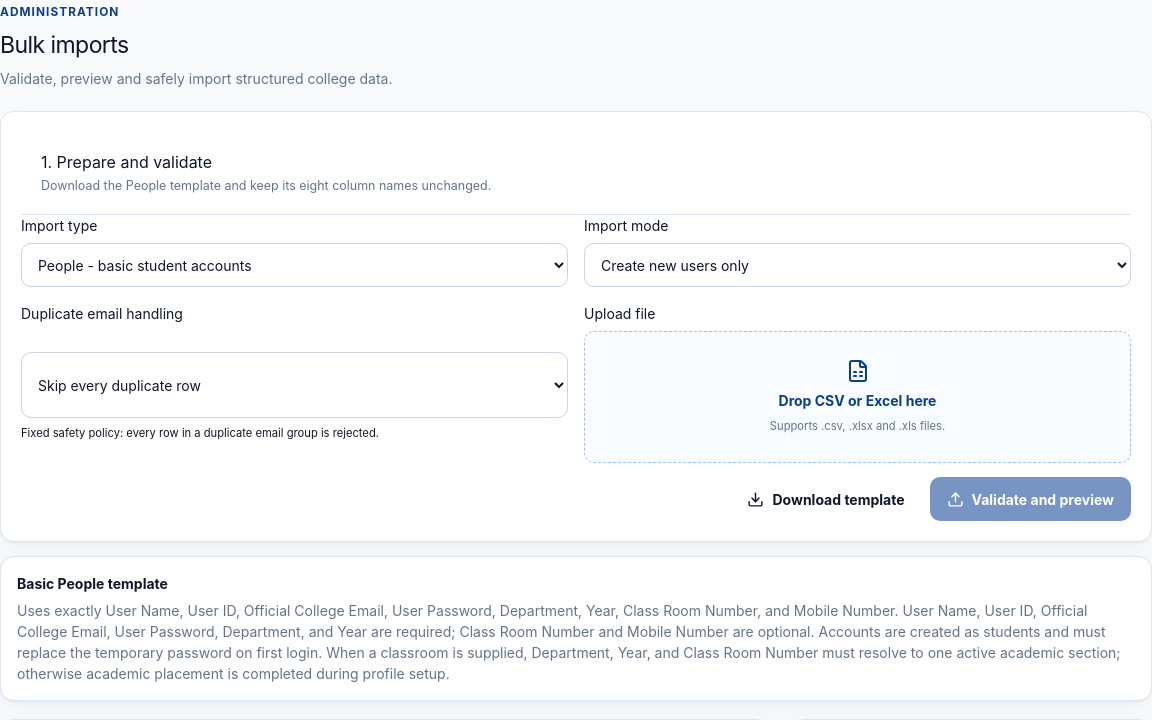
it: People bulk import page › surfaces template download failures
The image size is (1152, 720).
What coordinates should you click on to do the following:
click the button "Download template"
I would click on:
 (826, 499)
Its box is [730,477,922,521].
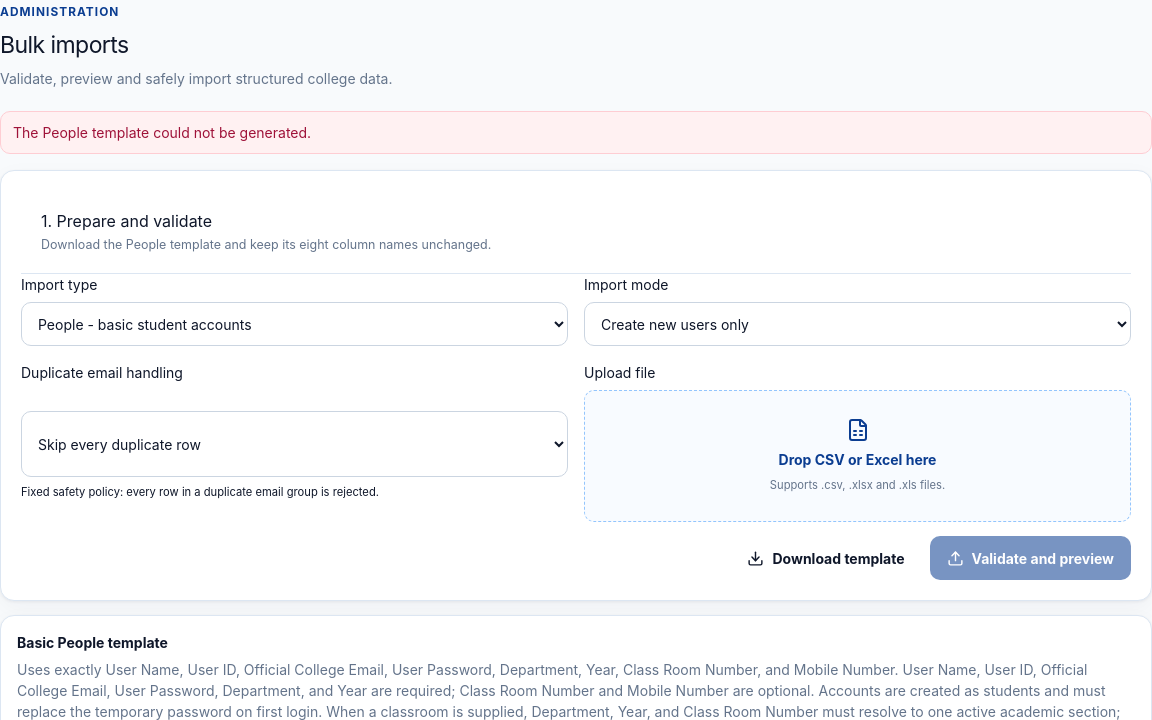
Check: the message reads "The People template could not be generated.", box [13,124,311,141]
